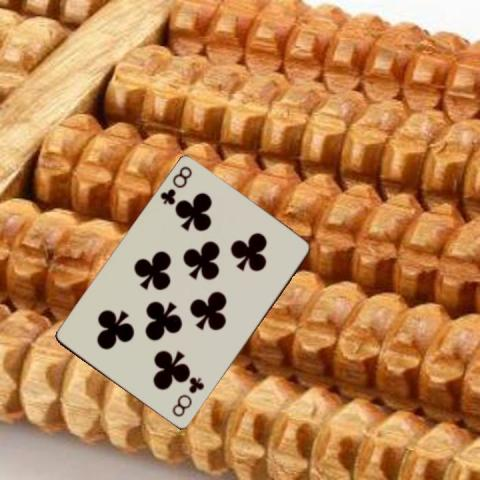8c: (169, 374, 206, 419), (157, 164, 194, 208)
